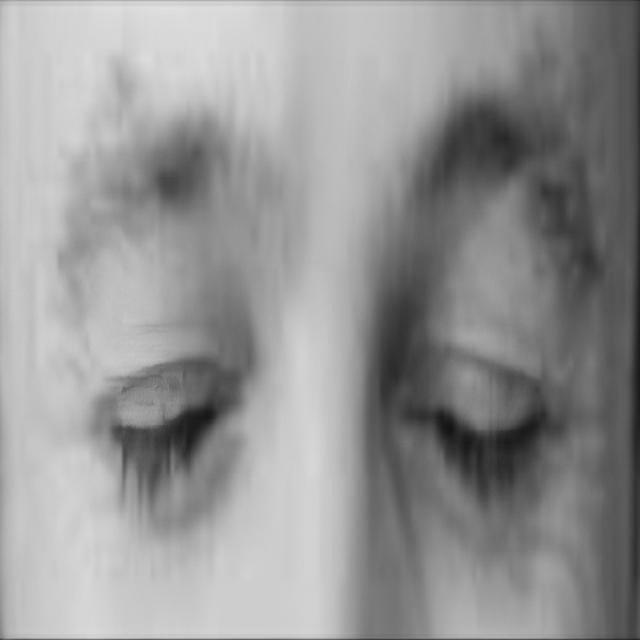real: (69, 106, 588, 571)
